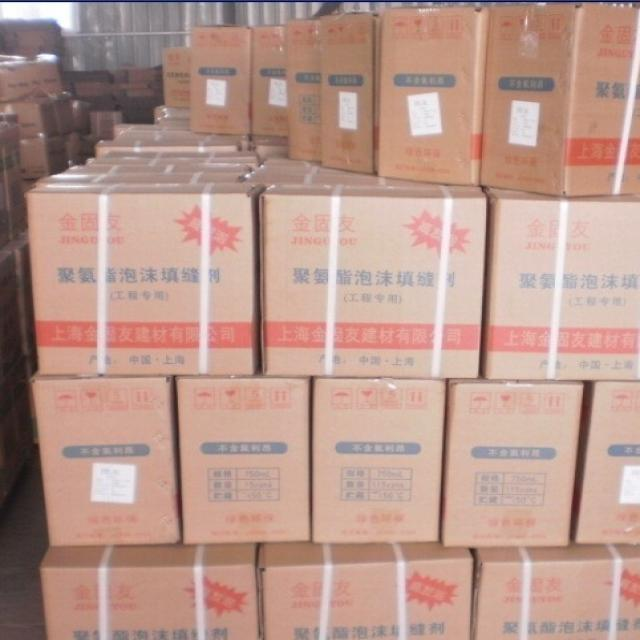box: (28, 181, 270, 377), (260, 185, 490, 382), (482, 5, 639, 197), (485, 188, 639, 381), (29, 374, 182, 544), (441, 380, 587, 549), (171, 373, 315, 543), (312, 377, 446, 543), (39, 543, 259, 640), (378, 6, 493, 186), (259, 543, 474, 639), (470, 543, 640, 640), (575, 382, 640, 546), (319, 9, 384, 171), (240, 151, 487, 190), (190, 26, 255, 133), (285, 17, 319, 162), (97, 129, 252, 156), (250, 25, 287, 133), (42, 166, 250, 184), (82, 149, 258, 170), (162, 45, 190, 107)
